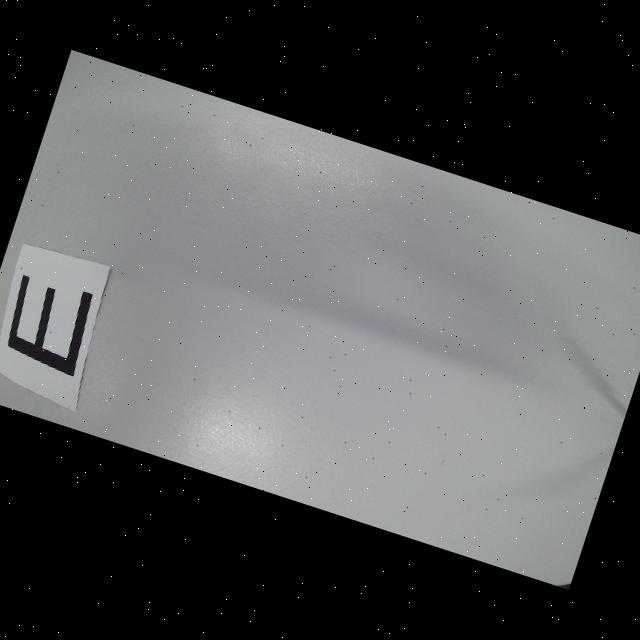FAKE: (0, 271, 101, 378)
